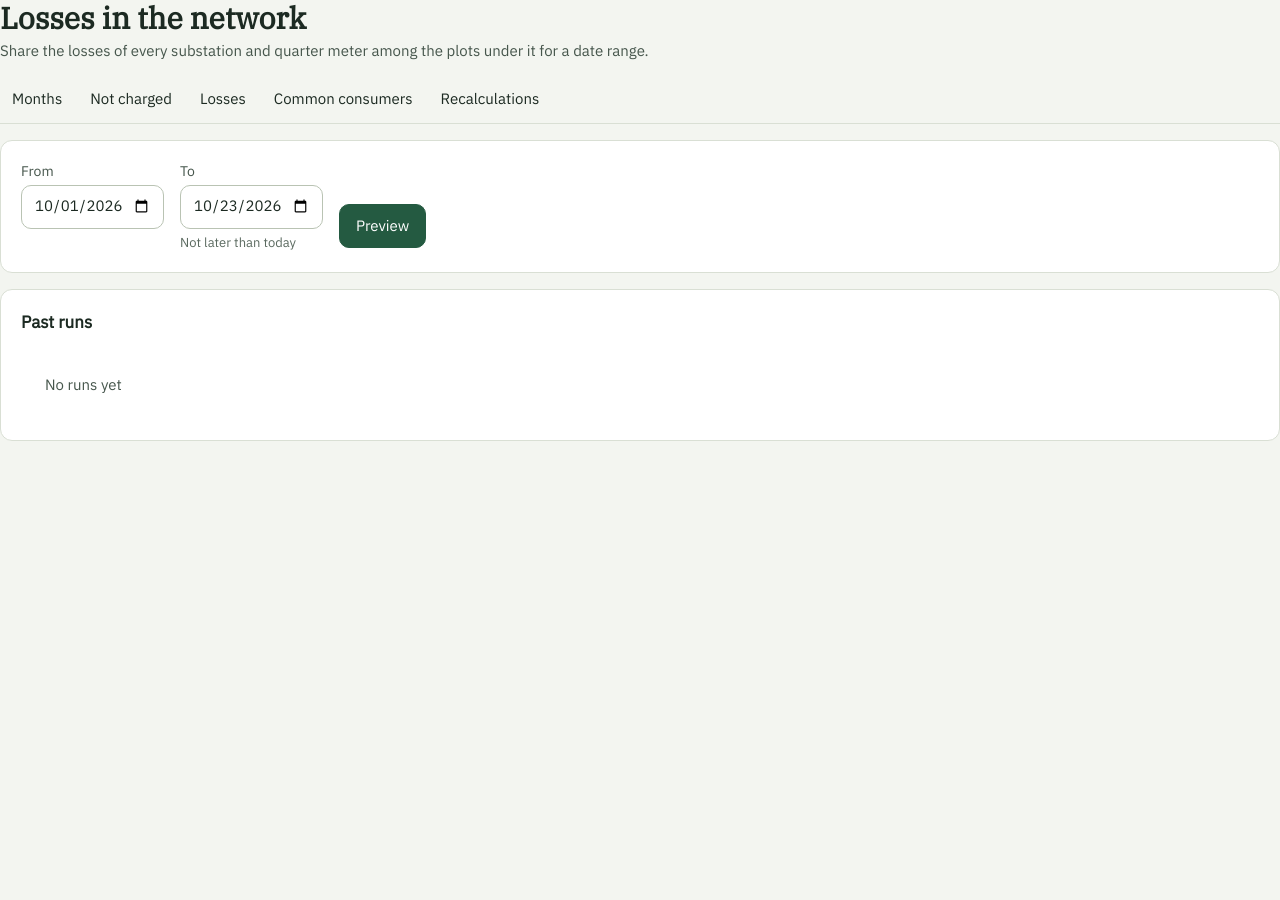
Test: LossesPage › writes a warning per node from its code and parameters
Click the button "Preview" at x=383, y=226, box [339,204,426,248]
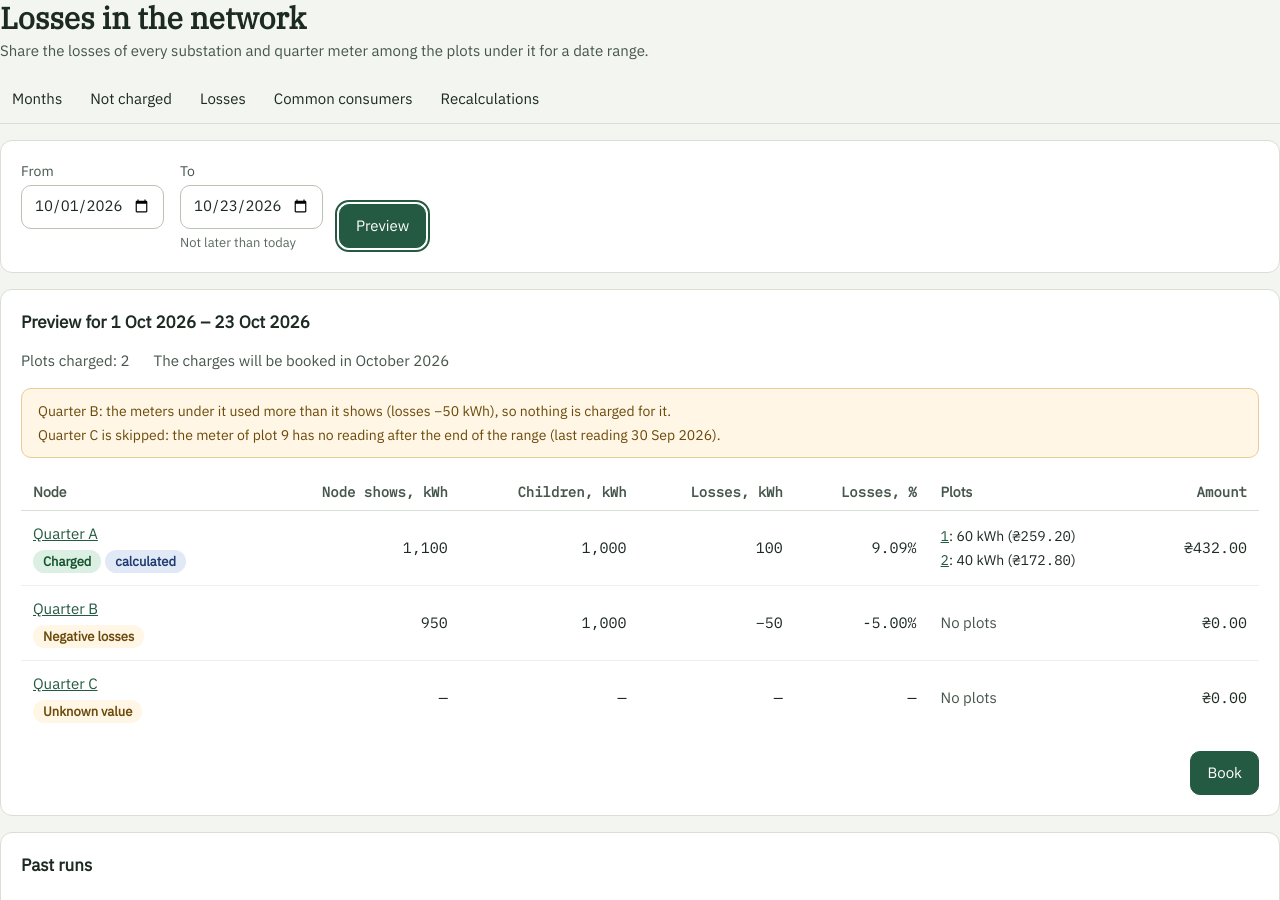
Expected: the list named "Warnings" shows "Quarter B: the meters under it used more than it shows (losses −50 kWh), so nothing is charged for it.", [38,402,720,444]
Expected: the list named "Warnings" shows "Quarter C is skipped: the meter of plot 9 has no reading after the end of the range (last reading 30 Sep 2026).", [38,402,720,444]
